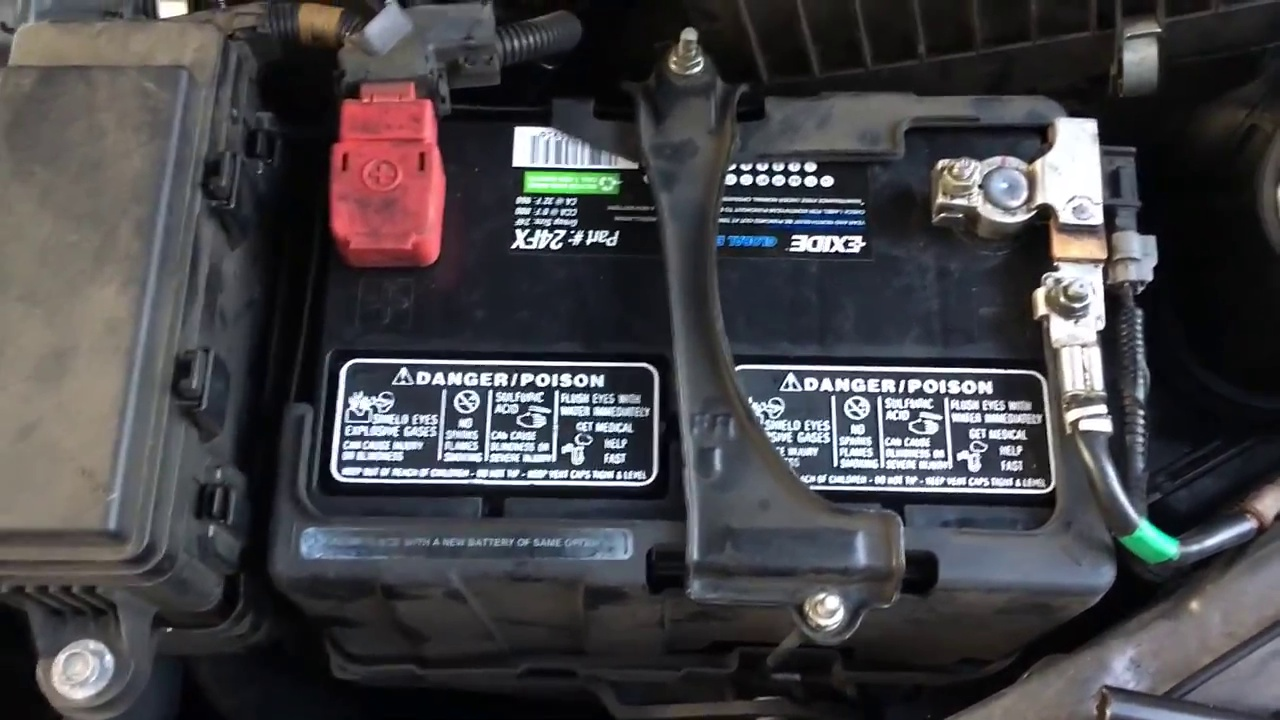battery: (316, 80, 1116, 583)
neg_connected: (889, 120, 1117, 260)
pos_connected: (284, 57, 494, 281)
